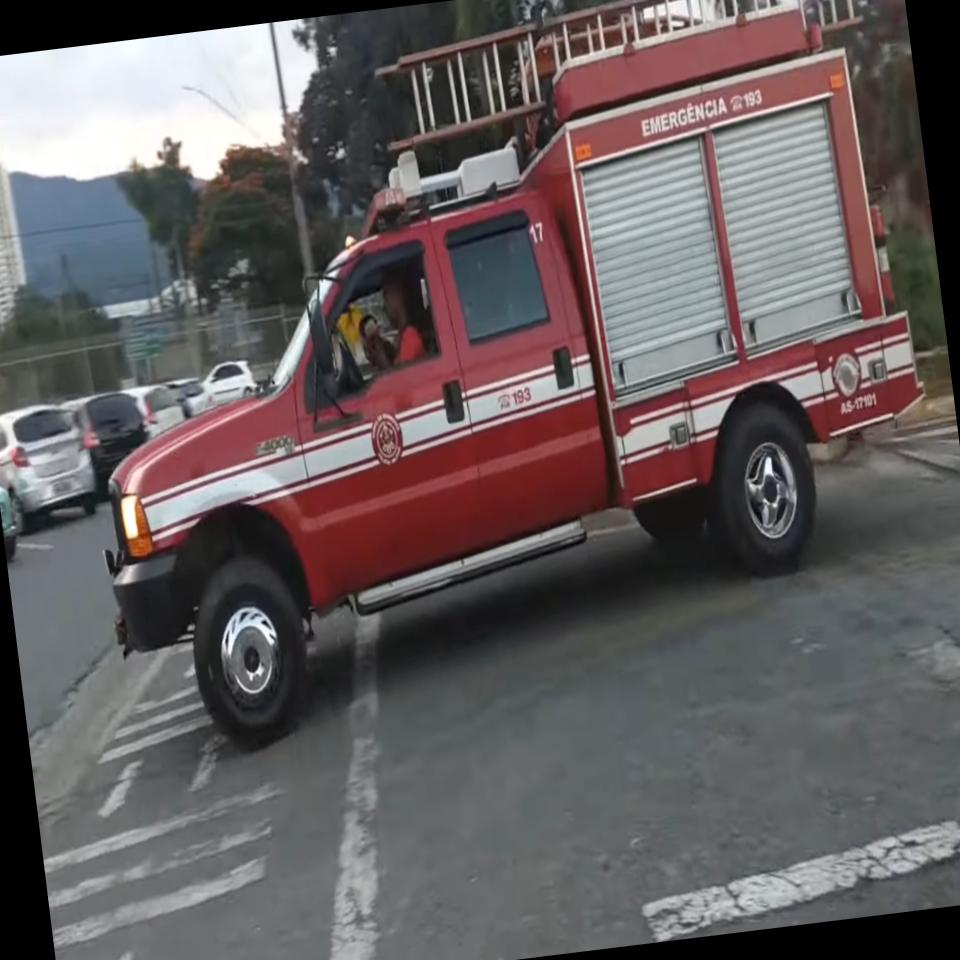viatura: (40, 0, 959, 758)
